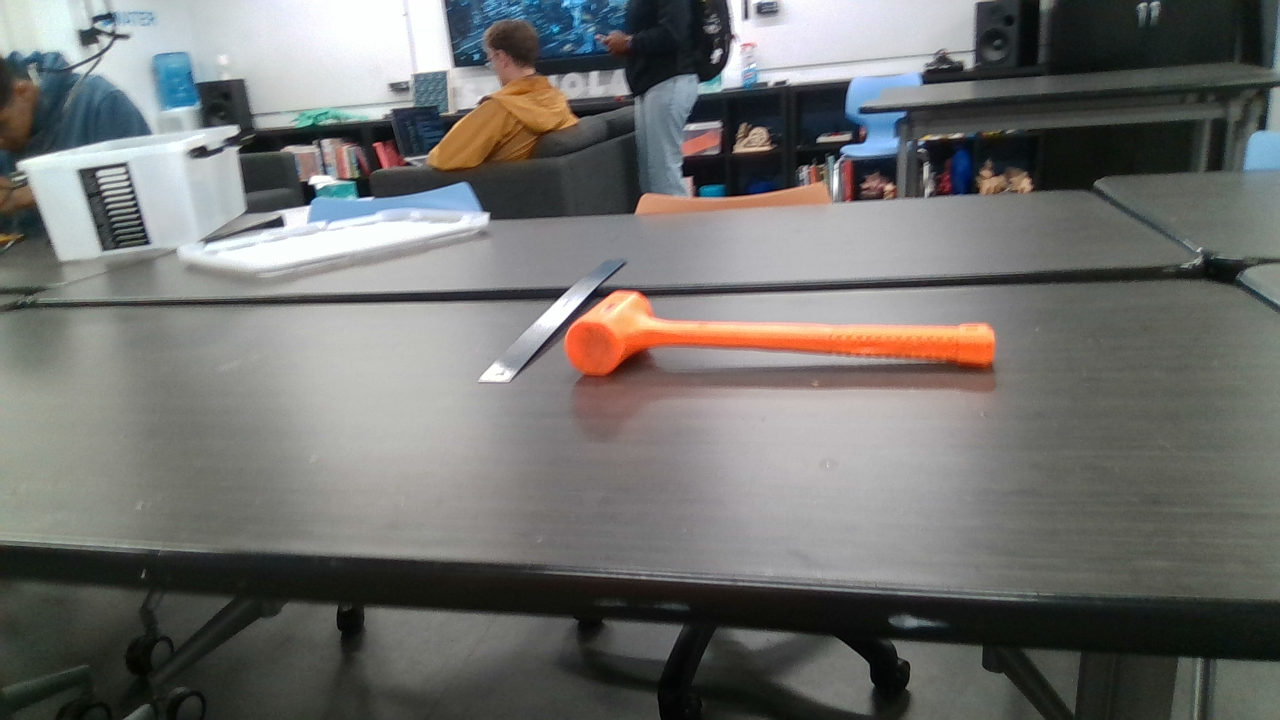Orange Hammer: (568, 289, 996, 377)
